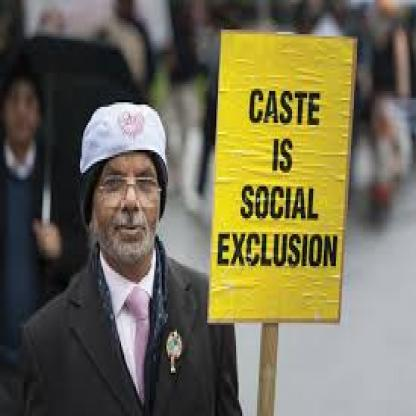BANNER: (207, 30, 359, 325)
